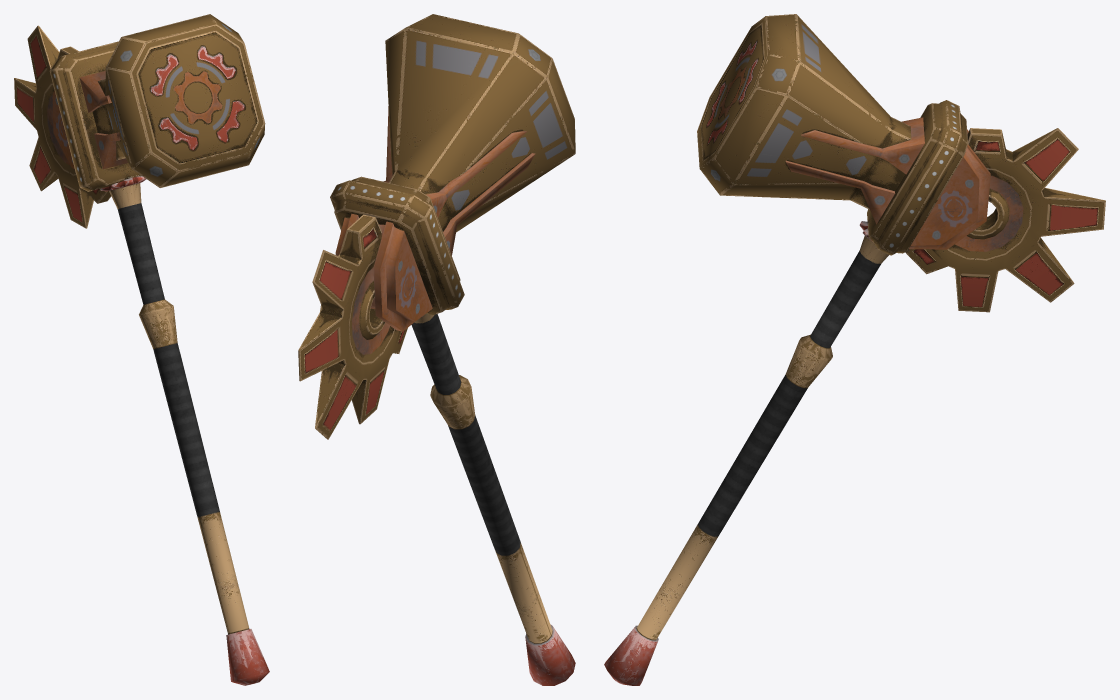
Rendered from Stage2_Main_Character_Weapon.fbx.
3 views of the same model, side by side, from view 1: azimuth 30°, elevation 25°; view 2: azimuth 150°, elevation 25°; view 3: azimuth 270°, elevation 25° (orthographic). The views are drawn at different scales.
Parts seen in each view (by area): view 1: Hammer_low, Handle_low, Gear_low, Con_low, Base_low; view 2: Hammer_low, Gear_low, Handle_low, Base_low, Con_low; view 3: Hammer_low, Gear_low, Handle_low, Base_low, Con_low.
Boxes of the visible parts, left/top/right/bottom form: Hammer_low: left=92, top=14, right=265, bottom=187; Handle_low: left=109, top=183, right=269, bottom=685; Gear_low: left=14, top=25, right=111, bottom=228; Con_low: left=49, top=41, right=141, bottom=191; Base_low: left=52, top=71, right=128, bottom=169; Hammer_low: left=385, top=14, right=575, bottom=232; Gear_low: left=298, top=214, right=407, bottom=439; Handle_low: left=411, top=313, right=575, bottom=685; Base_low: left=335, top=106, right=535, bottom=331; Con_low: left=330, top=176, right=464, bottom=315; Hammer_low: left=697, top=14, right=911, bottom=209; Gear_low: left=905, top=128, right=1105, bottom=312; Handle_low: left=604, top=236, right=888, bottom=685; Base_low: left=785, top=117, right=990, bottom=249; Con_low: left=867, top=100, right=967, bottom=255.
Bounding box in the file's own units: 69.13 × 293 × 206.
1 material, 1 textured.
